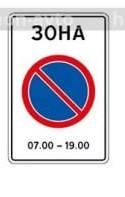road_sign: (6, 11, 111, 164)
